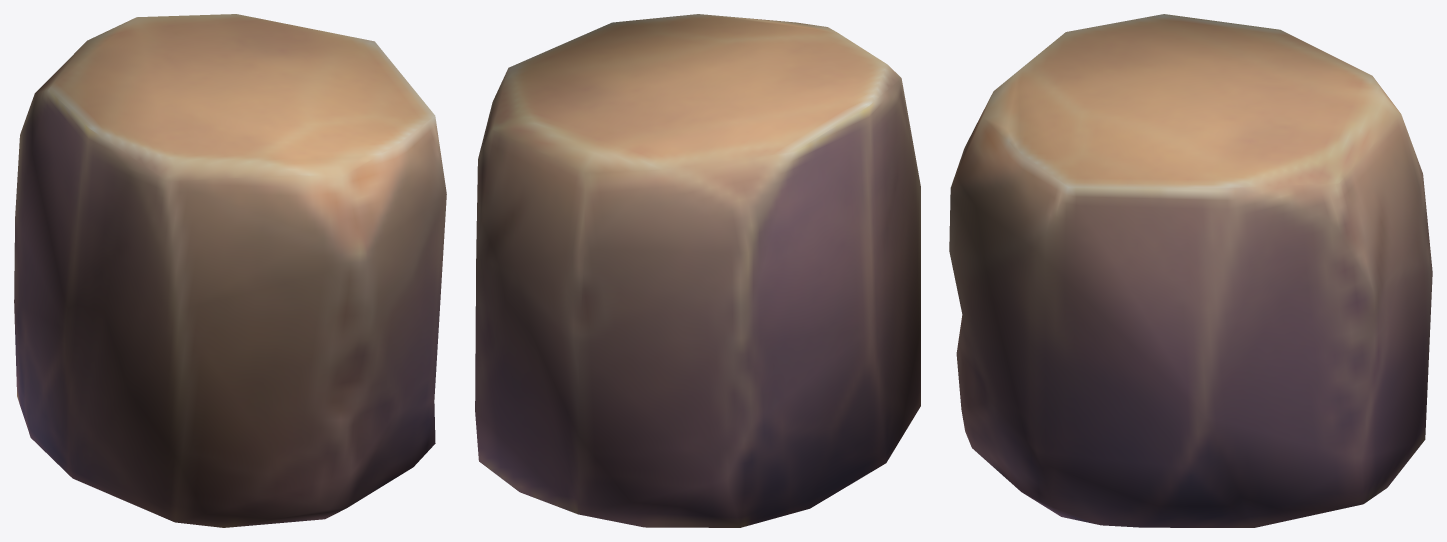
Rendered from SM_Gem_Moonstone_004.fbx.
3 renders of one model, left to right at view 1: azimuth 30°, elevation 25°; view 2: azimuth 150°, elevation 25°; view 3: azimuth 270°, elevation 25°, orthographic. The views are drawn at different scales.
Visible parts, largest first — view 1: SM_Gem_Moonstone_004; view 2: SM_Gem_Moonstone_004; view 3: SM_Gem_Moonstone_004.
Part boxes in pixels (x1,y1,x2,y2): SM_Gem_Moonstone_004: [14, 14, 446, 527]; SM_Gem_Moonstone_004: [475, 14, 920, 527]; SM_Gem_Moonstone_004: [949, 14, 1432, 527].
Size of the model in its own units: 12.81 by 12.59 by 14.86.
